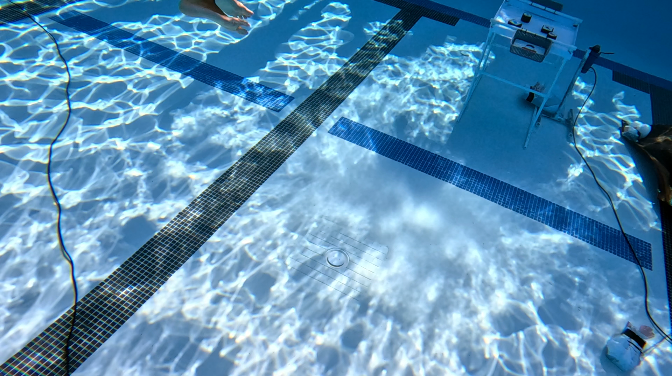sandbag: (609, 124, 671, 260)
